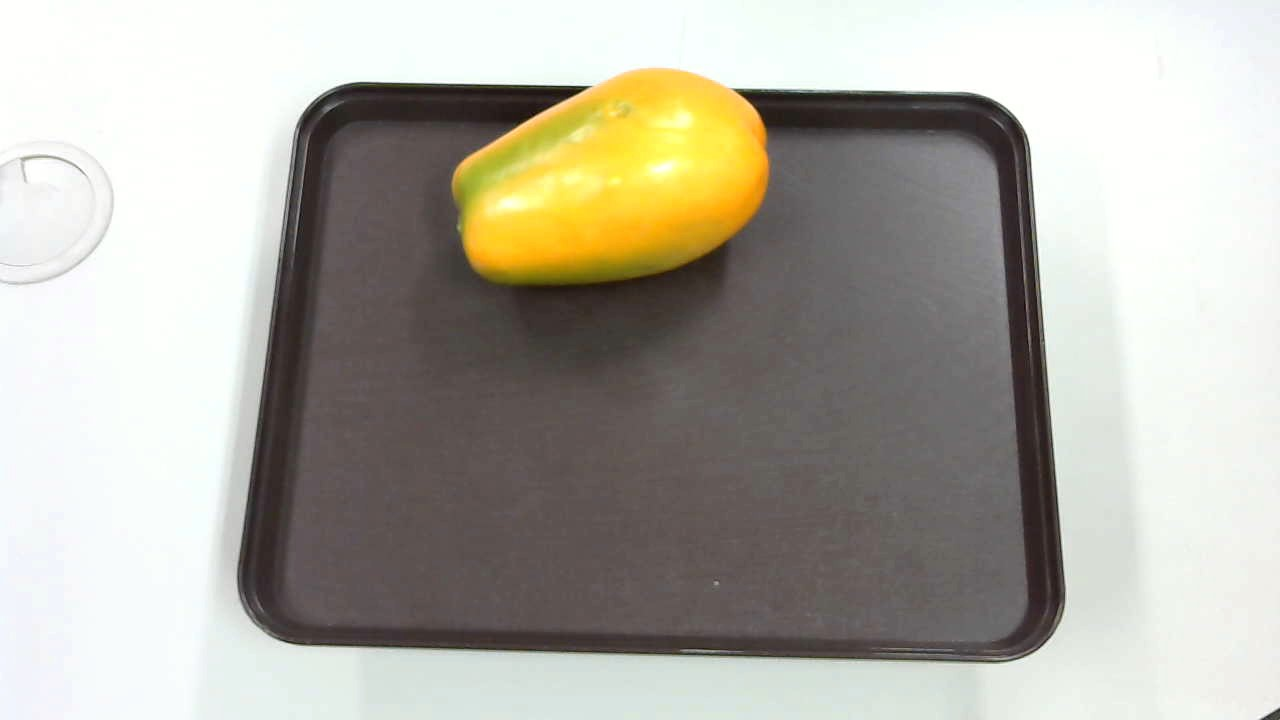papya: (446, 69, 773, 295)
